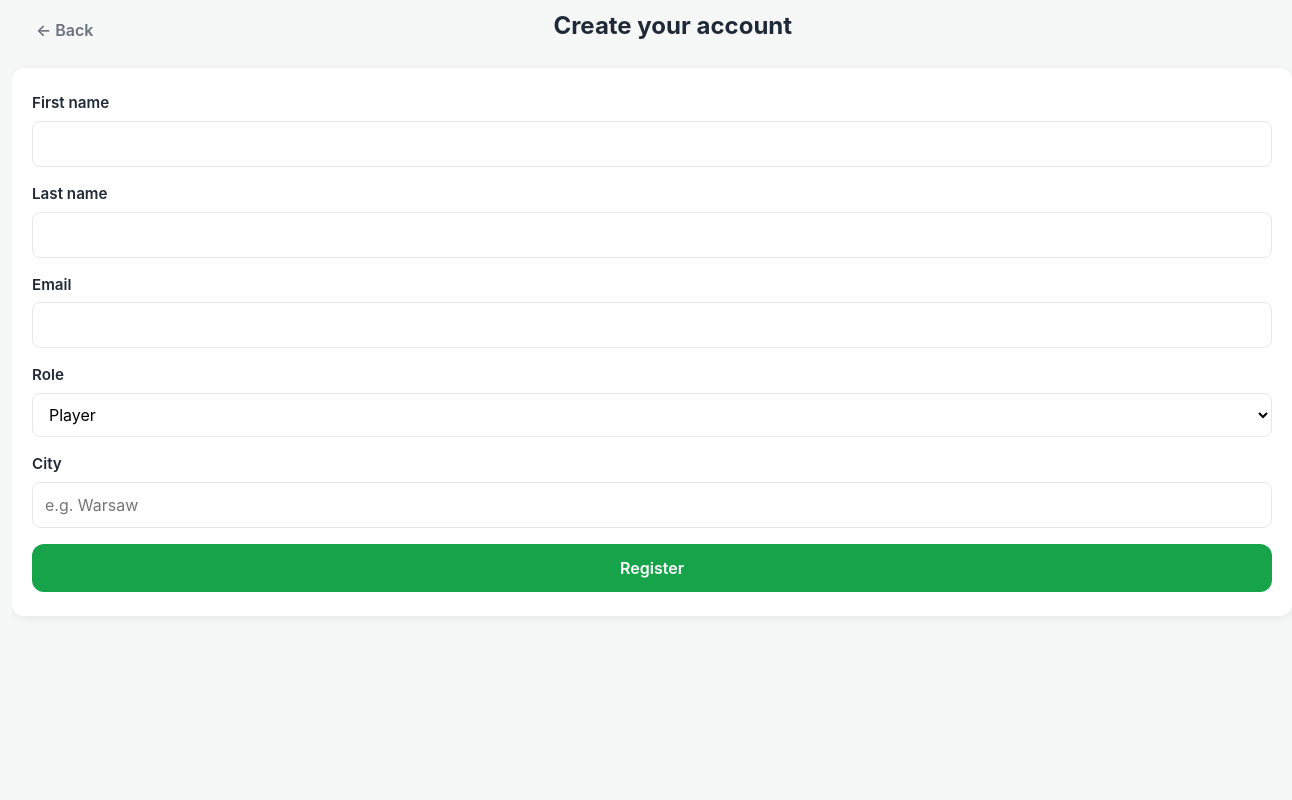
Scenario: RegistrationPage › shows validation errors for an invalid form
Click the button "Register": point(652, 568) [32,544,1272,592]
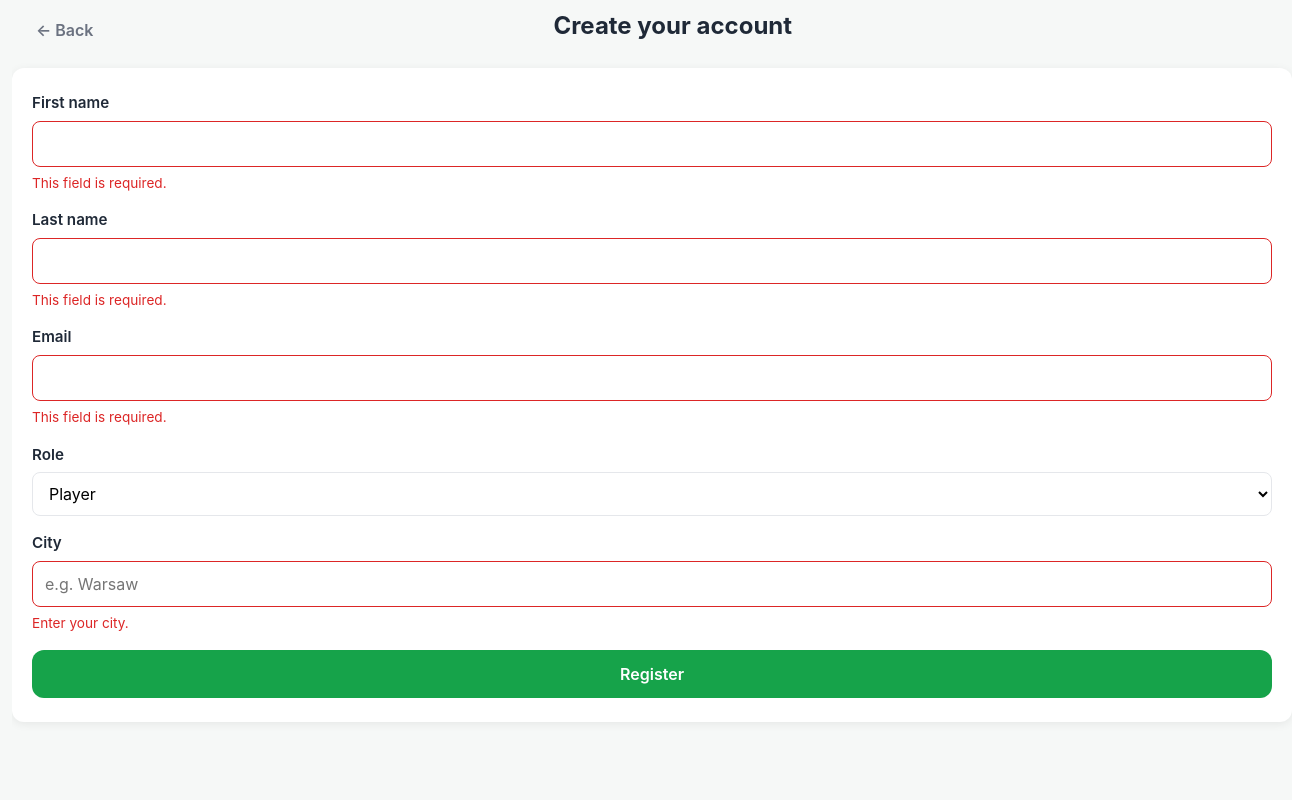
Expected: the text "This field is required." is shown 3 times, [32,175,167,191]; [32,292,167,308]; [32,409,167,425]
